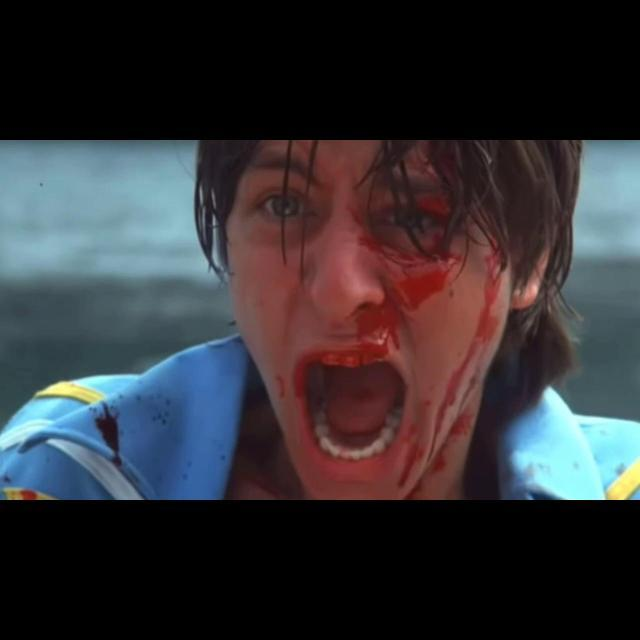blood: (236, 142, 546, 498), (76, 372, 174, 485)
